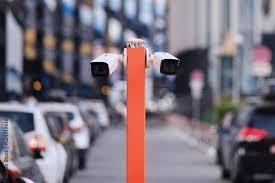Security camera: (89, 52, 120, 78), (151, 51, 180, 76)
